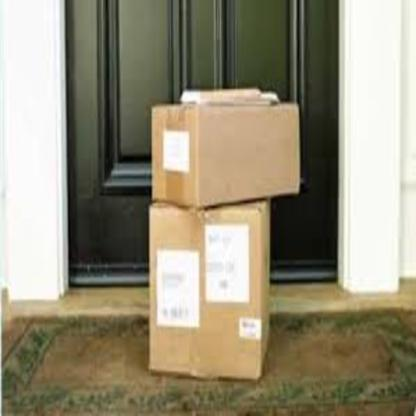package: (145, 206, 275, 387), (149, 96, 303, 208)
